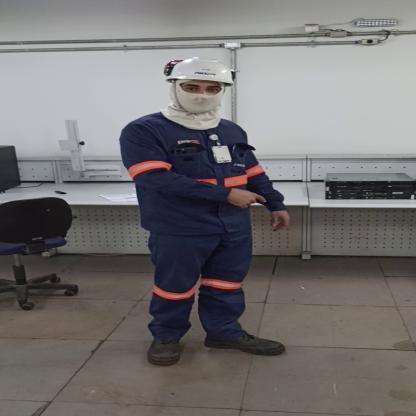Balaclava: (144, 79, 237, 130)
Capacete: (155, 55, 248, 88)
